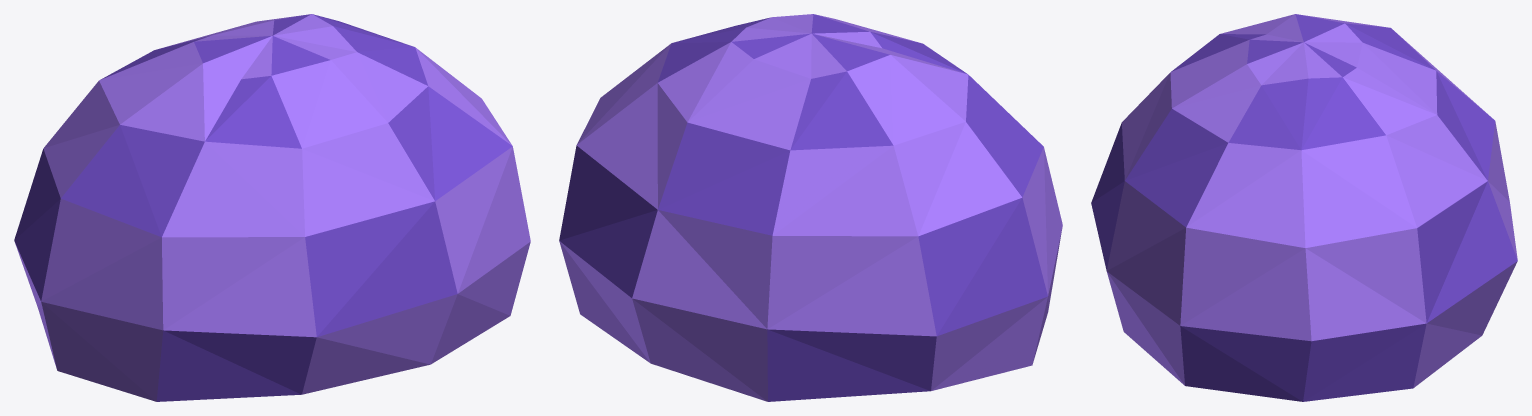
Rendered from coral_brain_purple.fbx.
3 renders of one model, left to right at view 1: azimuth 30°, elevation 25°; view 2: azimuth 150°, elevation 25°; view 3: azimuth 270°, elevation 25°, orthographic. The views are drawn at different scales.
Parts seen in each view (by area): view 1: coral_brain_purple; view 2: coral_brain_purple; view 3: coral_brain_purple.
Boxes of the visible parts, x1,y1,x2,y2 form: coral_brain_purple: (14, 14, 530, 401); coral_brain_purple: (559, 14, 1062, 401); coral_brain_purple: (1091, 14, 1517, 401).
Bounding box in the file's own units: 604 × 346 × 503.
1 material, 1 textured.
